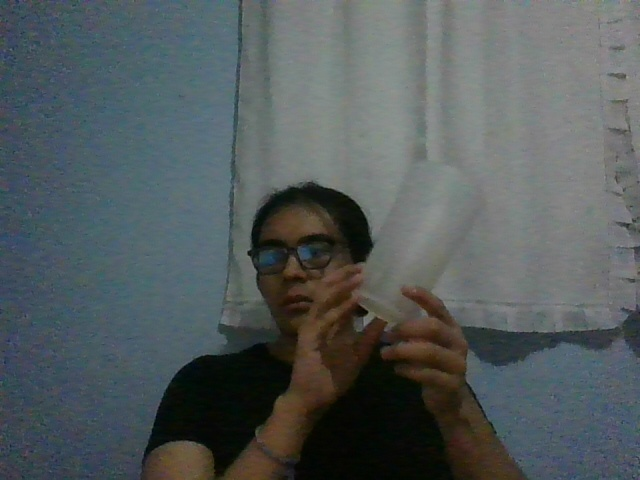vaso: (351, 161, 485, 325)
